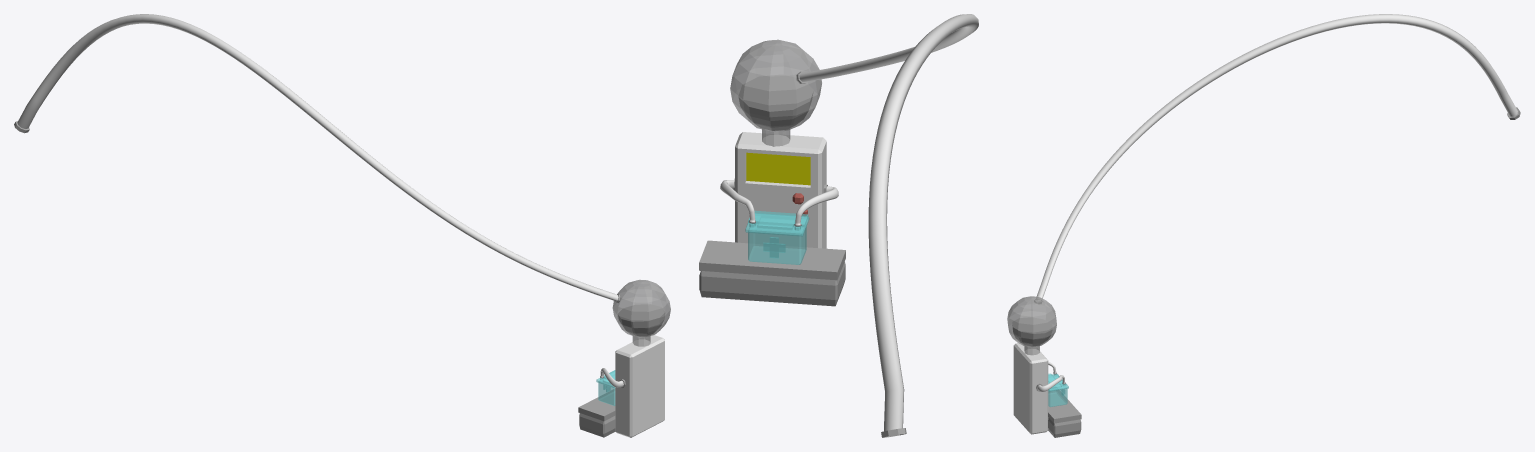
Rendered from Estacion1.fbx.
3 views of the same model, side by side, from view 1: azimuth 30°, elevation 25°; view 2: azimuth 150°, elevation 25°; view 3: azimuth 270°, elevation 25° (orthographic). The views are drawn at different scales.
Parts seen in each view (by area): view 1: Tubo, pCube2, Bombillo, Liquido4, Meson, Meson2; view 2: Tubo, pCube2, Bombillo, Meson, Meson2, Liquido4, BatteryTrasparencia, polySurface3; view 3: Tubo, pCube2, Bombillo, Liquido4, Meson, BatteryTrasparencia, Meson2.
Part boxes in pixels (bbox=[...]): Tubo: bbox=[14, 14, 620, 302]; pCube2: bbox=[615, 335, 664, 437]; Bombillo: bbox=[612, 279, 670, 346]; Liquido4: bbox=[618, 304, 665, 336]; Meson: bbox=[578, 389, 615, 421]; Meson2: bbox=[579, 413, 615, 437]; Tubo: bbox=[796, 14, 978, 437]; pCube2: bbox=[735, 132, 826, 248]; Bombillo: bbox=[730, 39, 821, 146]; Meson: bbox=[699, 240, 845, 280]; Meson2: bbox=[699, 262, 845, 306]; Liquido4: bbox=[738, 74, 813, 130]; BatteryTrasparencia: bbox=[745, 210, 809, 264]; polySurface3: bbox=[720, 178, 838, 226]; Tubo: bbox=[1034, 14, 1520, 304]; pCube2: bbox=[1013, 343, 1048, 434]; Bombillo: bbox=[1007, 296, 1056, 355]; Liquido4: bbox=[1012, 317, 1052, 346]; Meson: bbox=[1048, 390, 1081, 423]; BatteryTrasparencia: bbox=[1048, 373, 1068, 406]; Meson2: bbox=[1048, 417, 1081, 437].
Size of the model in its own units: 209 by 172 by 274.
